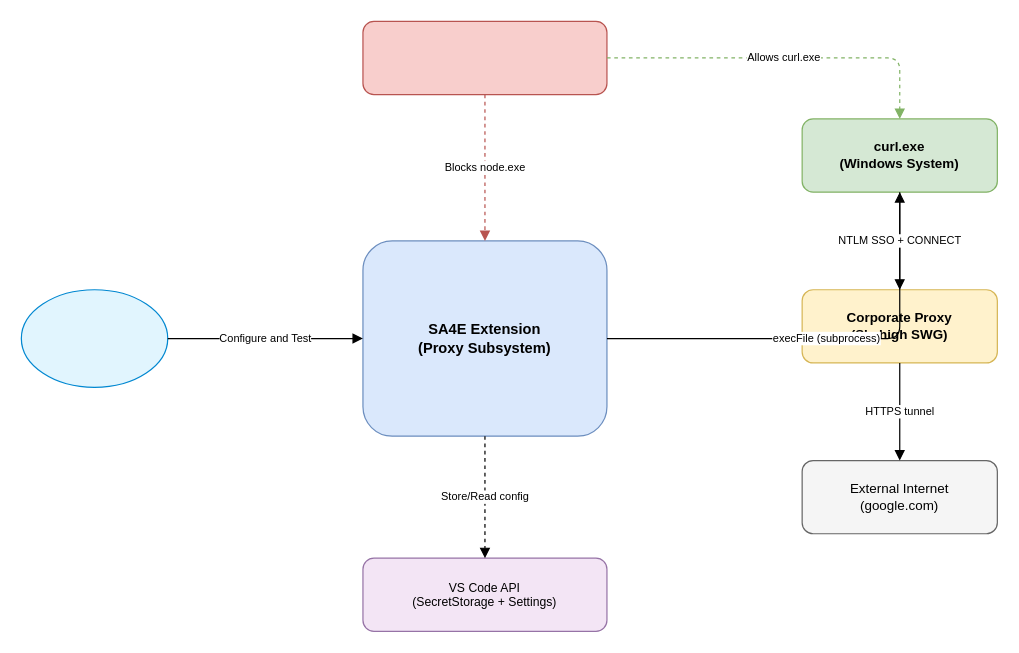
Image size: 1019x653. Some labels were removed from this diagram. Here are the shapes that lost their labels. From the top down, the centre of each, then its label:
[484,57]: EDR Software (Trellix / CrowdStrike)
[94,338]: User (Developer)
